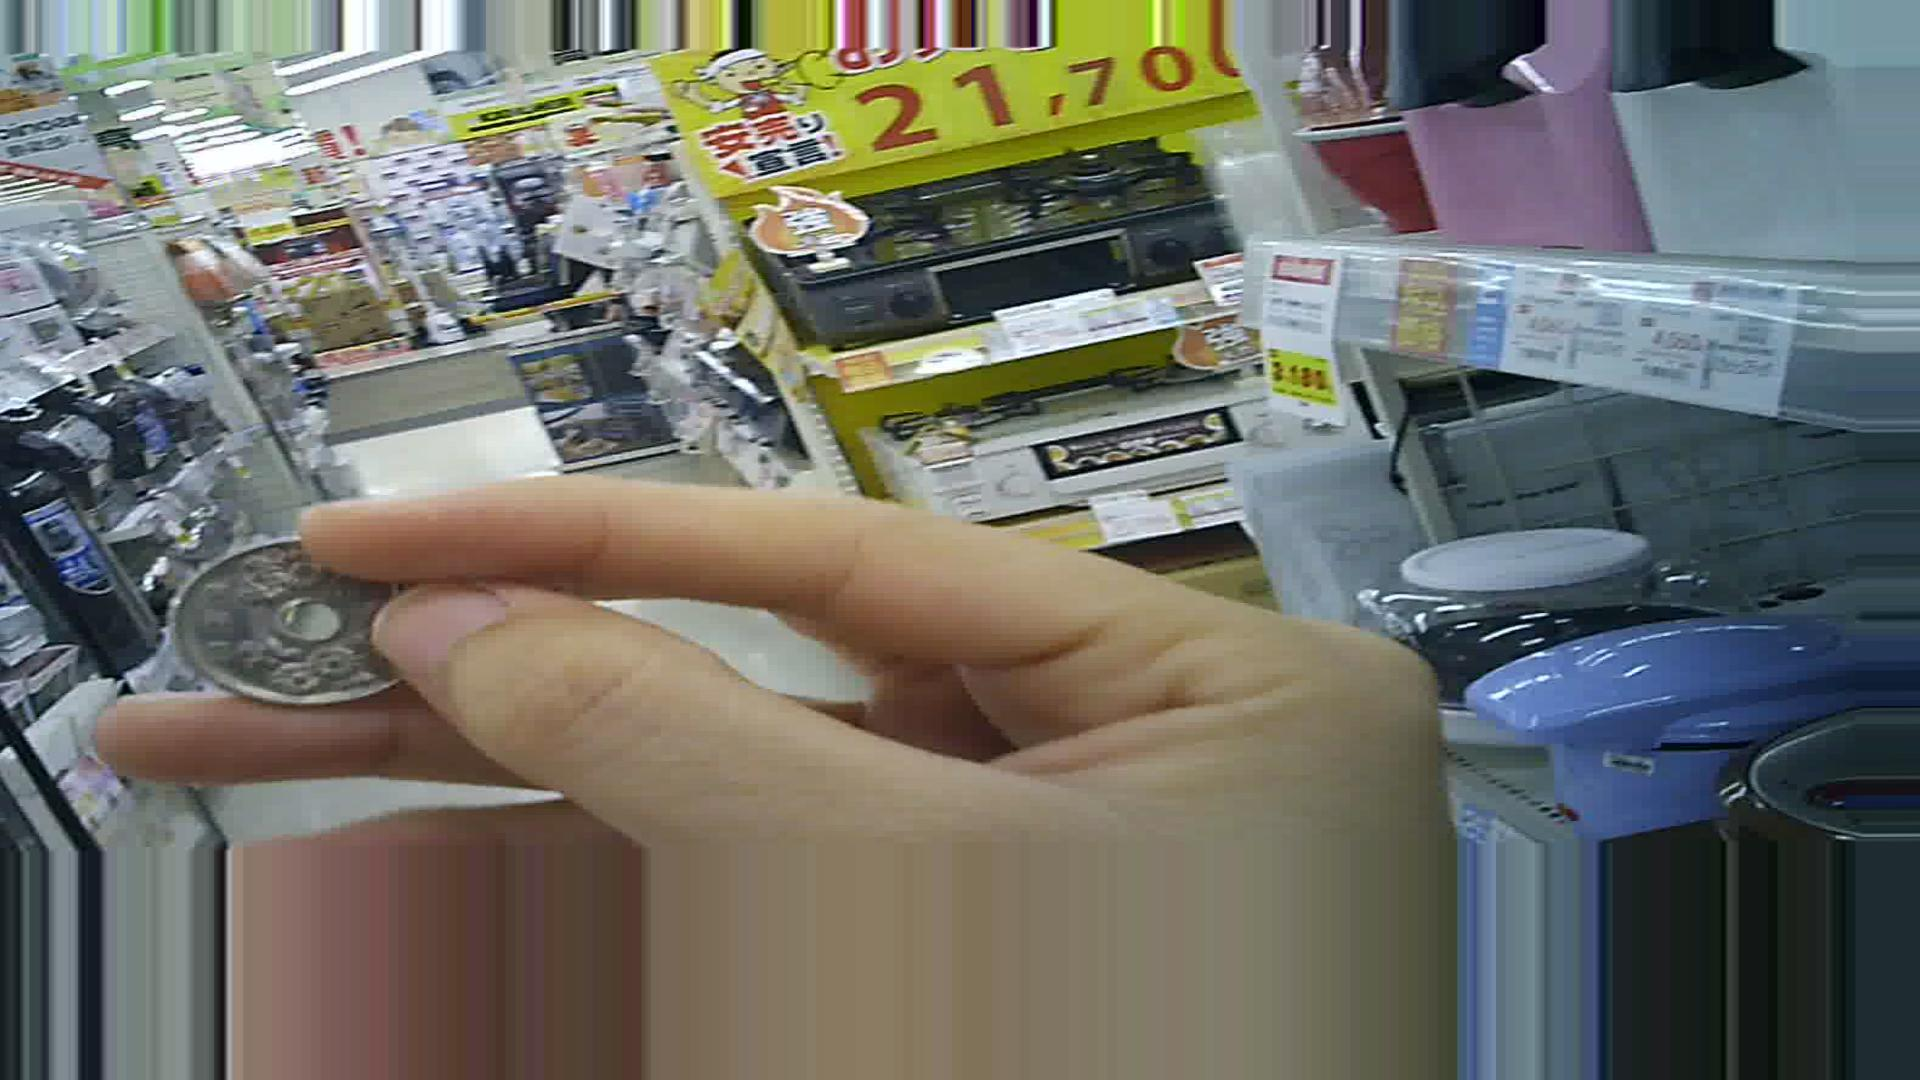50 Yen: (167, 539, 419, 702)
